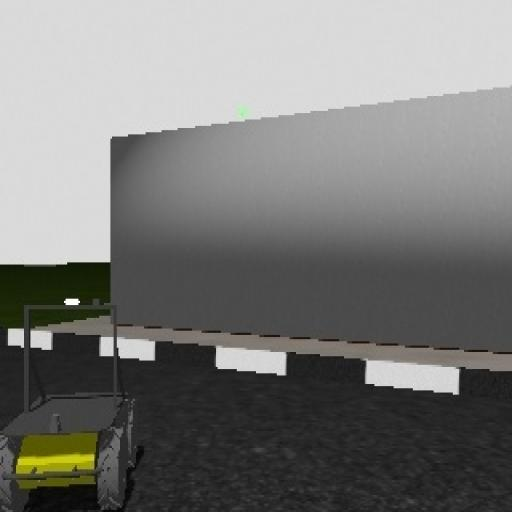huskya200: (0, 285, 143, 512)
